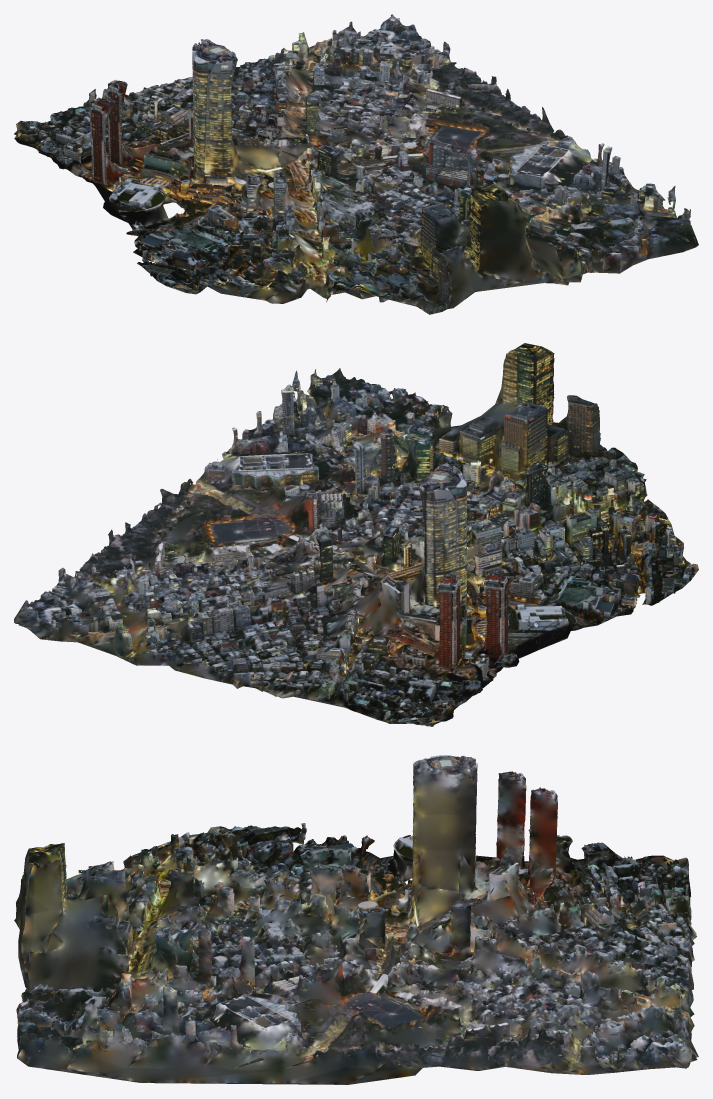
Rendered from osaka_downtown.glb.
3 views of the same model, one above another, from view 1: azimuth 30°, elevation 25°; view 2: azimuth 150°, elevation 25°; view 3: azimuth 270°, elevation 25° (orthographic). The views are drawn at different scales.
Visible parts, largest first — view 1: meshNode_Material_u1_v1_0; view 2: meshNode_Material_u1_v1_0; view 3: meshNode_Material_u1_v1_0.
Part boxes in pixels (x1,y1,x2,y2): meshNode_Material_u1_v1_0: (14,14,698,314); meshNode_Material_u1_v1_0: (14,343,698,726); meshNode_Material_u1_v1_0: (14,755,698,1084).
Size of the model in its own units: 49.04 by 16.78 by 58.84.
Materials: 1 (1 with a texture image).
